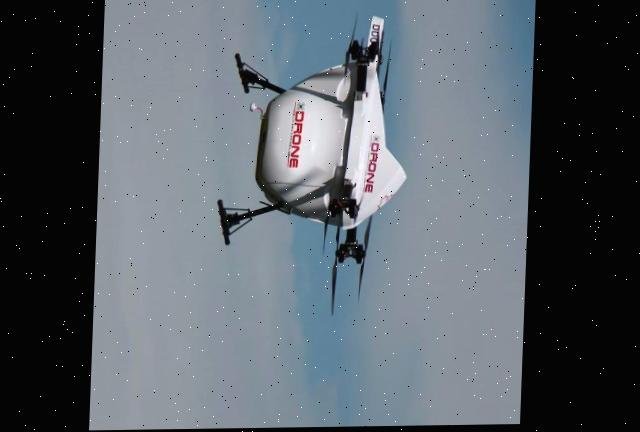drone: (198, 0, 426, 343)
